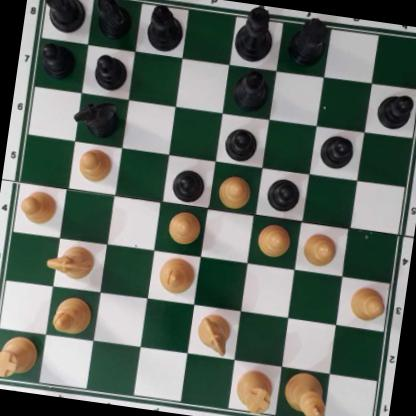black-bishop: (143, 1, 187, 54), (232, 67, 271, 113)
black-king: (233, 4, 276, 66)
black-knight: (71, 96, 122, 140), (88, 0, 135, 38)
black-pawn: (35, 40, 78, 81), (91, 51, 131, 93), (375, 90, 415, 131), (318, 131, 356, 171), (222, 125, 260, 163), (265, 174, 302, 213), (171, 167, 207, 204)
black-rook: (286, 15, 330, 68), (37, 0, 89, 34)
white-bishop: (51, 292, 94, 339), (157, 255, 197, 297)
white-king: (281, 369, 330, 416)
white-knight: (44, 241, 97, 283), (194, 311, 235, 356)
white-pawn: (346, 284, 388, 324), (18, 187, 59, 226), (300, 229, 339, 269), (214, 173, 255, 210), (77, 147, 115, 185), (256, 221, 293, 260), (167, 209, 203, 247)
white-rook: (233, 369, 277, 415), (0, 331, 41, 380)
